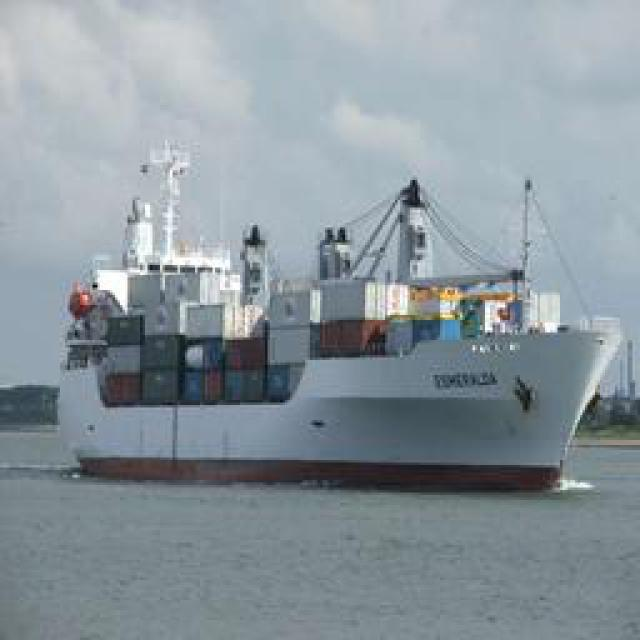Ship: (45, 120, 623, 485)
